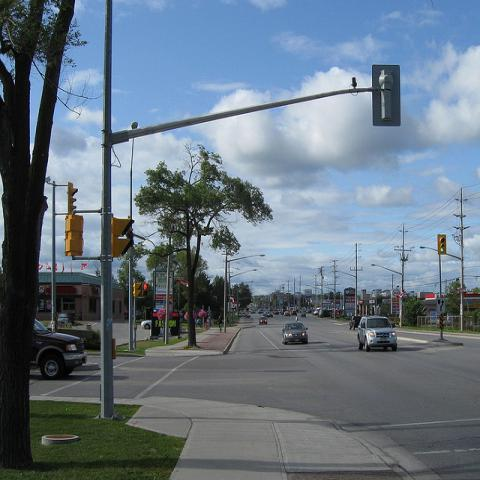car: (357, 316, 399, 352), (280, 322, 308, 344), (57, 312, 75, 326), (349, 316, 362, 330), (140, 319, 152, 329), (258, 316, 268, 325), (313, 307, 321, 315), (284, 310, 291, 316), (291, 310, 297, 316), (267, 313, 273, 318)
truck: (31, 317, 87, 381)
